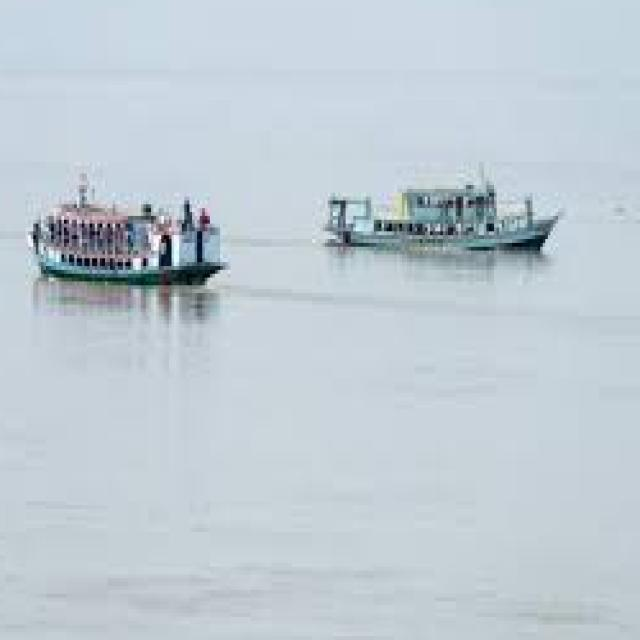houseboat: (11, 168, 224, 296), (328, 154, 549, 253)
